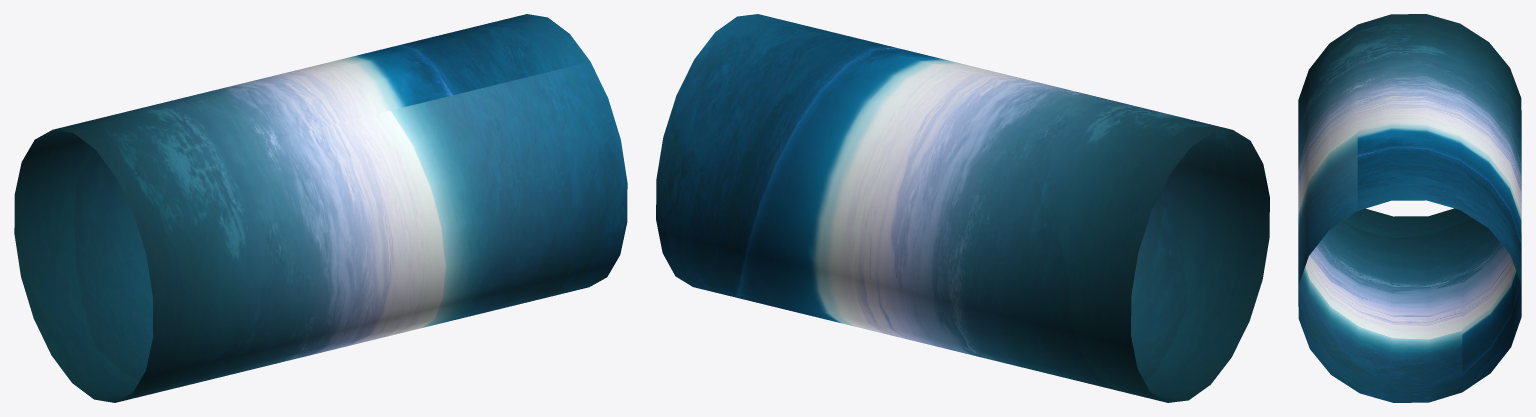
File: haiyang4.fbx
The picture shows the model from 3 angles, left to right: view 1: azimuth 30°, elevation 25°; view 2: azimuth 150°, elevation 25°; view 3: azimuth 270°, elevation 25°; orthographic projection. The views are drawn at different scales.
Parts seen in each view (by area): view 1: pCylinder1; view 2: pCylinder1; view 3: pCylinder1.
Boxes of the visible parts, box(x1,y1,x2,y2) form: pCylinder1: box(14, 14, 627, 402); pCylinder1: box(656, 14, 1269, 402); pCylinder1: box(1298, 14, 1521, 402).
Size of the model in its own units: 33.78 by 17.11 by 17.11.
